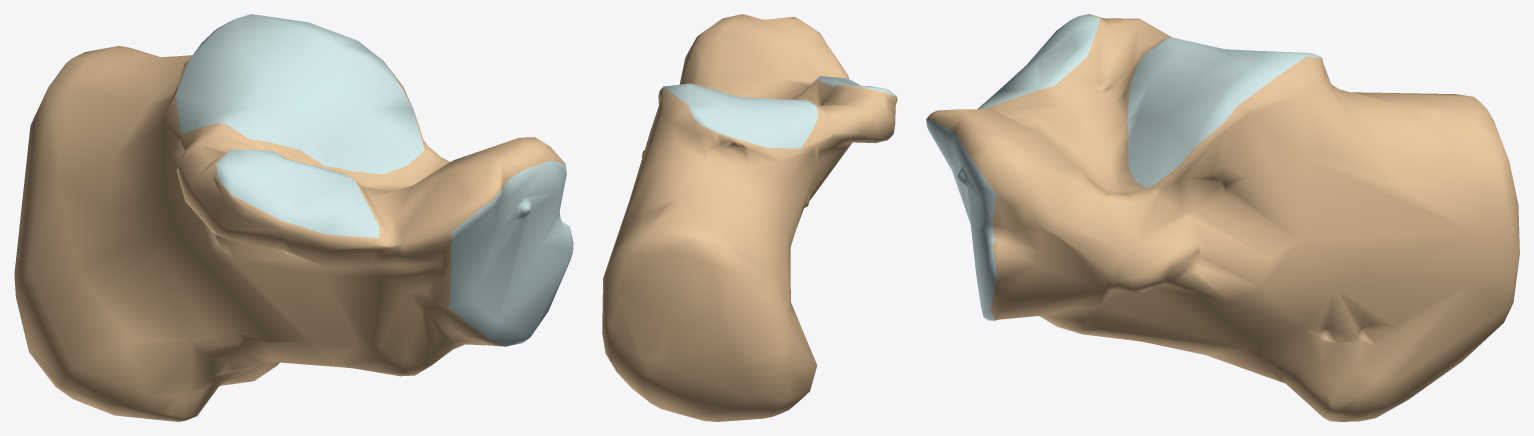
File: Calcaneus.l_Generated_Mesh_From_X3D.910.glb
3 renders of one model, left to right at view 1: azimuth 30°, elevation 25°; view 2: azimuth 150°, elevation 25°; view 3: azimuth 270°, elevation 25°, orthographic. The views are drawn at different scales.
Parts seen in each view (by area): view 1: Calcaneus.l_Generated_Mesh_From_X3D.910; view 2: Calcaneus.l_Generated_Mesh_From_X3D.910; view 3: Calcaneus.l_Generated_Mesh_From_X3D.910.
Boxes of the visible parts, x1,y1,x2,y2 form: Calcaneus.l_Generated_Mesh_From_X3D.910: (14,14,573,421); Calcaneus.l_Generated_Mesh_From_X3D.910: (602,14,897,421); Calcaneus.l_Generated_Mesh_From_X3D.910: (926,14,1519,421).
Size of the model in its own units: 0.0475 by 0.0511 by 0.0757.
